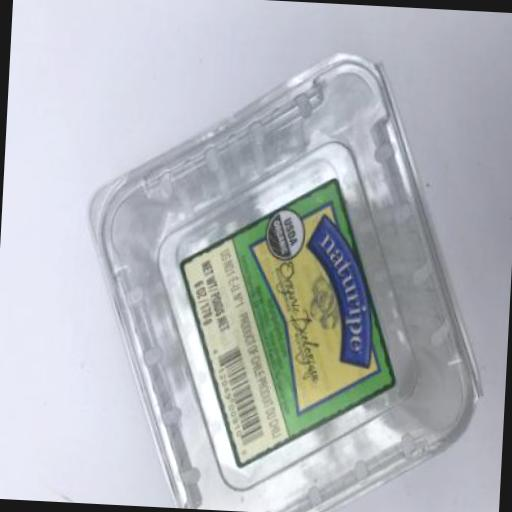plastic: (71, 38, 498, 512)
